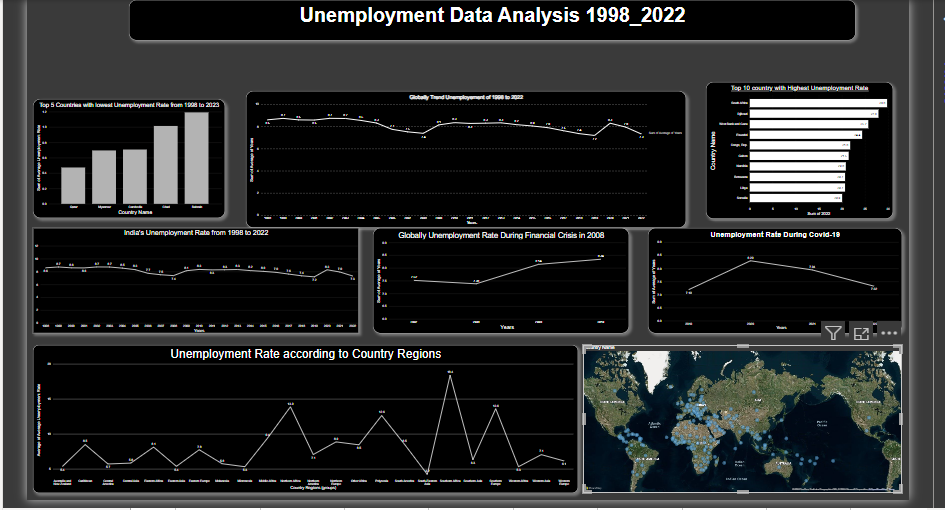

The page's visual inventory and layout, read from the dashboard file:
{"tool":"powerbi","page":{"name":"Report","canvas":[3526,2000],"ordinal":9},"visuals":[{"type":"barChart","title":"Top 10 country with Highest Unemployment Rate","fields":{"Category":["Data.Country Name"],"Y":["Sum(Data.2022)"]},"box":[2716.5,326.8,748,547.2],"z":0},{"type":"lineChart","title":"Globally Trend Unemployement of 1998 to 2022","fields":{"Category":["Data.Years"],"Y":["Sum(Data.Average of Years)"]},"box":[878,362.2,1759.8,547.2],"z":1000},{"type":"lineChart","title":"Globally Unemployment Rate During Financial Crisis in 2008","fields":{"Y":["Sum(Data.Average of Years)"],"Category":["Data.Years"]},"box":[1385.8,913.4,1023.6,421.3],"z":2000},{"type":"lineChart","title":"Unemployment Rate During Covid-19","fields":{"Category":["Data.Years"],"Y":["Sum(Data.Average of Years)"]},"box":[2484.3,913.4,1015.7,421.3],"z":3000},{"type":"clusteredColumnChart","title":"Top 5 Countries with lowest Unemployment Rate from 1998 to 2023","fields":{"Category":["Data.Country Name"],"Y":["Sum(Data.Average Unemployment Rate)"]},"box":[23.6,397.6,767.7,476.4],"z":4000},{"type":"lineChart","title":"India''s Unemployment Rate from 1998 to 2022","fields":{"Category":["Data.Years"],"Y":["Sum(Data.Average of Years)"]},"box":[23.6,913.4,1303.1,421.3],"z":5000},{"type":"lineChart","title":"Unemployment Rate according to Country Regions","fields":{"Category":["Data.Country Regions (groups)"],"Y":["Avg(Data.Average Unemployment Rate)"]},"box":[24,1380,2180,592],"z":6000},{"type":"textbox","box":[409.4,0,2905.5,161.4],"z":7000},{"type":"map","fields":{"Category":["Data.Country Name"]},"box":[2288,1380,1212,592],"z":7001}]}

Visuals, with their boxes on the page's 3526x2000 design canvas (x1, y1, x2, y2). These are canvas units, not pixel positions in the 945x510 screenshot, which may show the page scaled, cropped or inside an application window:
"Top 10 country with Highest Unemployment Rate" barChart: x1=2716 y1=327 x2=3464 y2=874
"Globally Trend Unemployement of 1998 to 2022" lineChart: x1=878 y1=362 x2=2638 y2=909
"Globally Unemployment Rate During Financial Crisis in 2008" lineChart: x1=1386 y1=913 x2=2409 y2=1335
"Unemployment Rate During Covid-19" lineChart: x1=2484 y1=913 x2=3500 y2=1335
"Top 5 Countries with lowest Unemployment Rate from 1998 to 2023" clusteredColumnChart: x1=24 y1=398 x2=791 y2=874
"India''s Unemployment Rate from 1998 to 2022" lineChart: x1=24 y1=913 x2=1327 y2=1335
"Unemployment Rate according to Country Regions" lineChart: x1=24 y1=1380 x2=2204 y2=1972
textbox: x1=409 y1=0 x2=3315 y2=161
map - Data.Country Name: x1=2288 y1=1380 x2=3500 y2=1972
